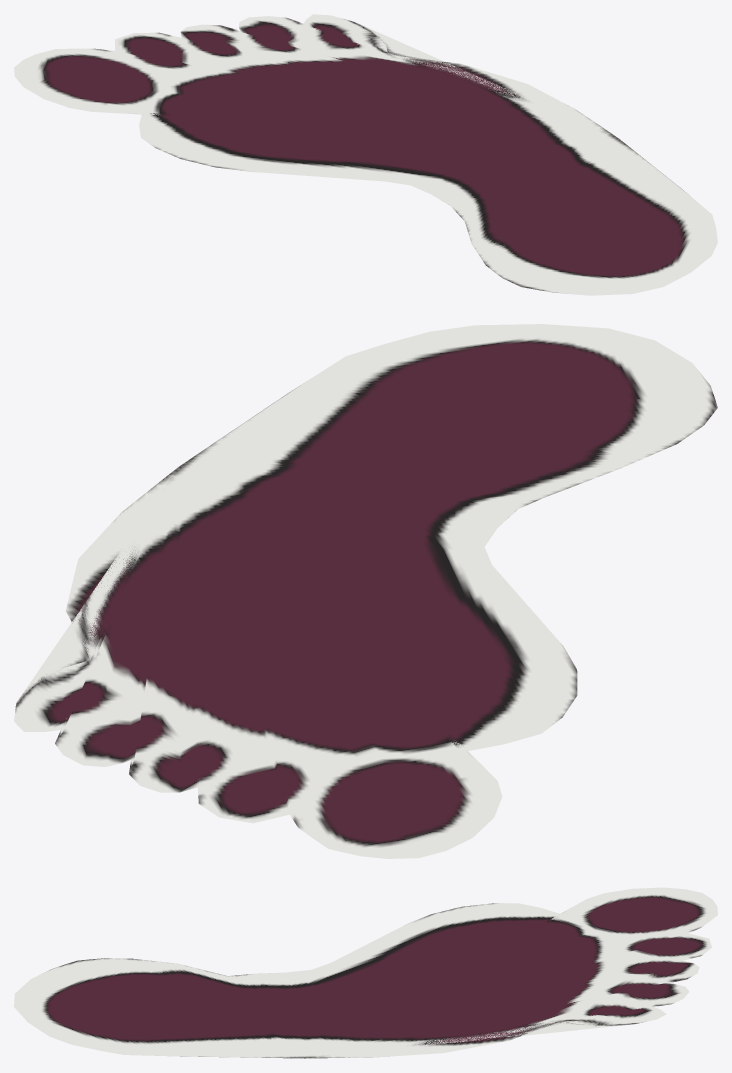
File: BurgendyRightFoot.fbx
3 views of the same model, one above another, from view 1: azimuth 30°, elevation 25°; view 2: azimuth 150°, elevation 25°; view 3: azimuth 270°, elevation 25° (orthographic). The views are drawn at different scales.
Visible parts, largest first — view 1: Plane.001; view 2: Plane.001; view 3: Plane.001.
Boxes of the visible parts, left/top/right/bottom form: Plane.001: left=14, top=14, right=717, bottom=295; Plane.001: left=14, top=324, right=717, bottom=858; Plane.001: left=14, top=887, right=717, bottom=1058.
Size of the model in its own units: 696 by 6.02 by 1211.
